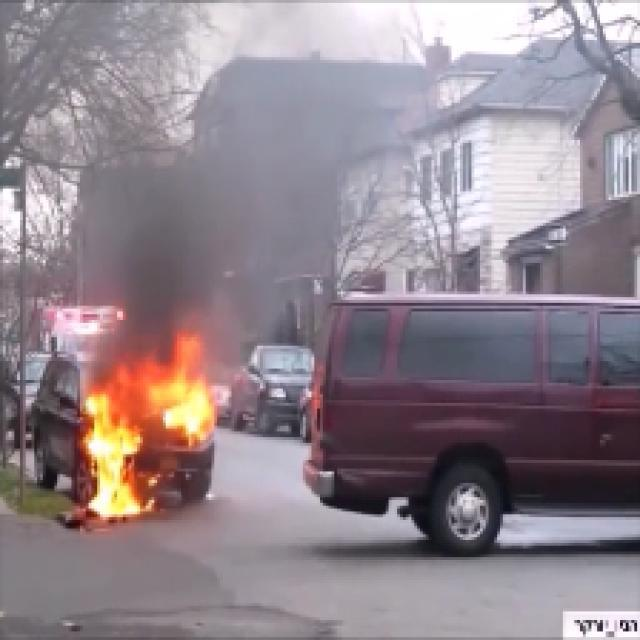Fire: (80, 369, 216, 522)
Smoke: (124, 1, 372, 296)
